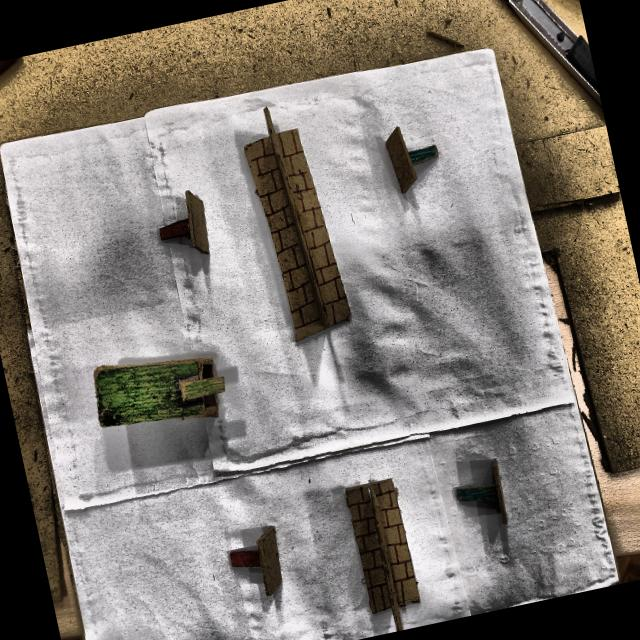Dead soldier -enemy-: (220, 524, 295, 607), (155, 189, 214, 259)
Dead soldier -frd-: (449, 457, 511, 536), (381, 124, 443, 196)
Tank: (92, 354, 228, 431)
Wall: (242, 128, 353, 344), (343, 478, 423, 631)
